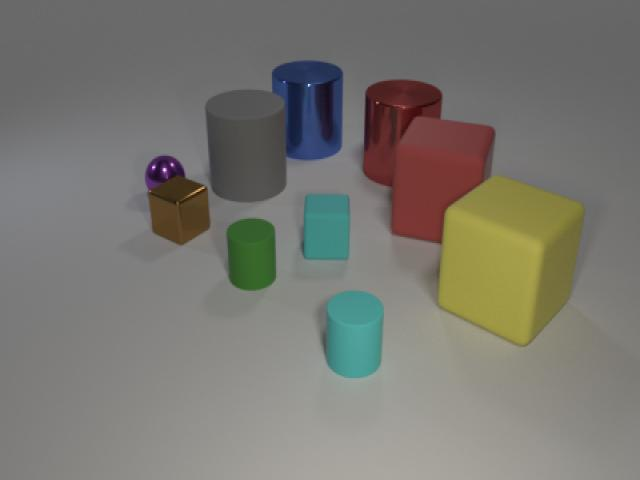cylinder: (203, 82, 292, 207), (359, 74, 442, 191), (267, 53, 347, 166), (321, 286, 388, 383), (223, 214, 280, 294)
round ball: (141, 150, 189, 202)
